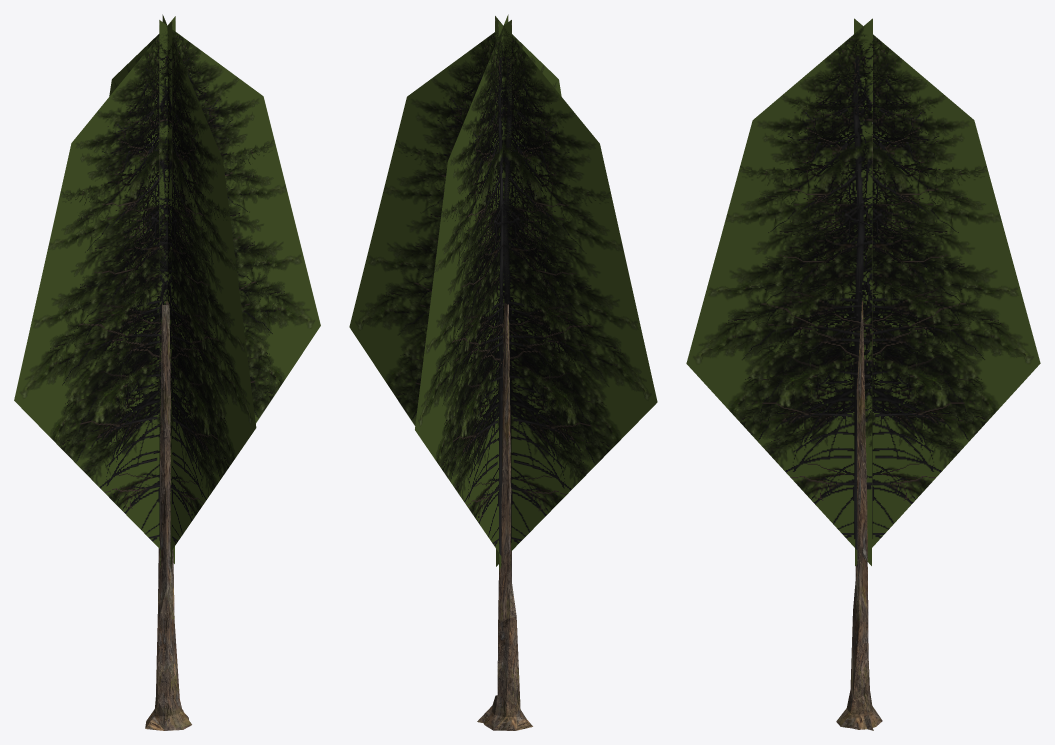
The model's file is spruce_4_lod.dae.
3 renders of one model, left to right at view 1: azimuth 30°, elevation 25°; view 2: azimuth 150°, elevation 25°; view 3: azimuth 270°, elevation 25°, orthographic.
Parts seen in each view (by area): view 1: Mesh_Object; view 2: Mesh_Object; view 3: Mesh_Object.
Part boxes in pixels (box(x1,y1,x2,y2)): Mesh_Object: box(14, 14, 320, 730); Mesh_Object: box(349, 14, 657, 730); Mesh_Object: box(686, 18, 1040, 730).
Size of the model in its own units: 5.55 by 12.15 by 5.55.
